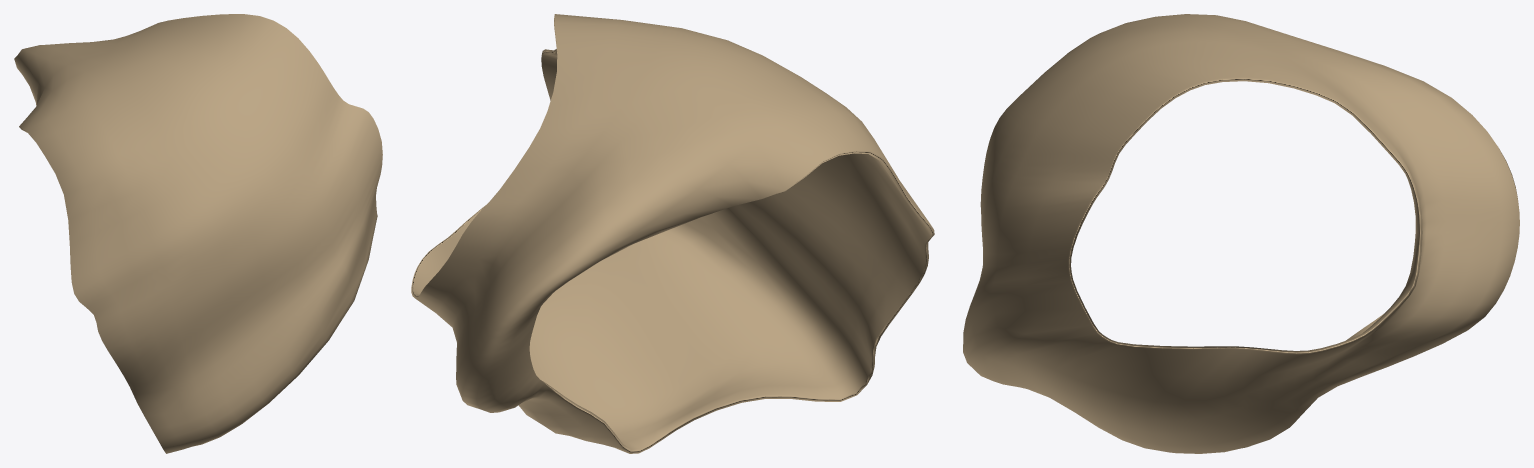
The picture shows the model from 3 angles, left to right: view 1: azimuth 30°, elevation 25°; view 2: azimuth 150°, elevation 25°; view 3: azimuth 270°, elevation 25°; orthographic projection. The views are drawn at different scales.
Parts seen in each view (by area): view 1: 右侧肩关节囊; view 2: 右侧肩关节囊; view 3: 右侧肩关节囊.
Part boxes in pixels (x1,y1,x2,y2): 右侧肩关节囊: [14, 14, 382, 453]; 右侧肩关节囊: [411, 14, 934, 453]; 右侧肩关节囊: [963, 14, 1519, 453].
Size of the model in its own units: 0.0696 by 0.0687 by 0.086.
